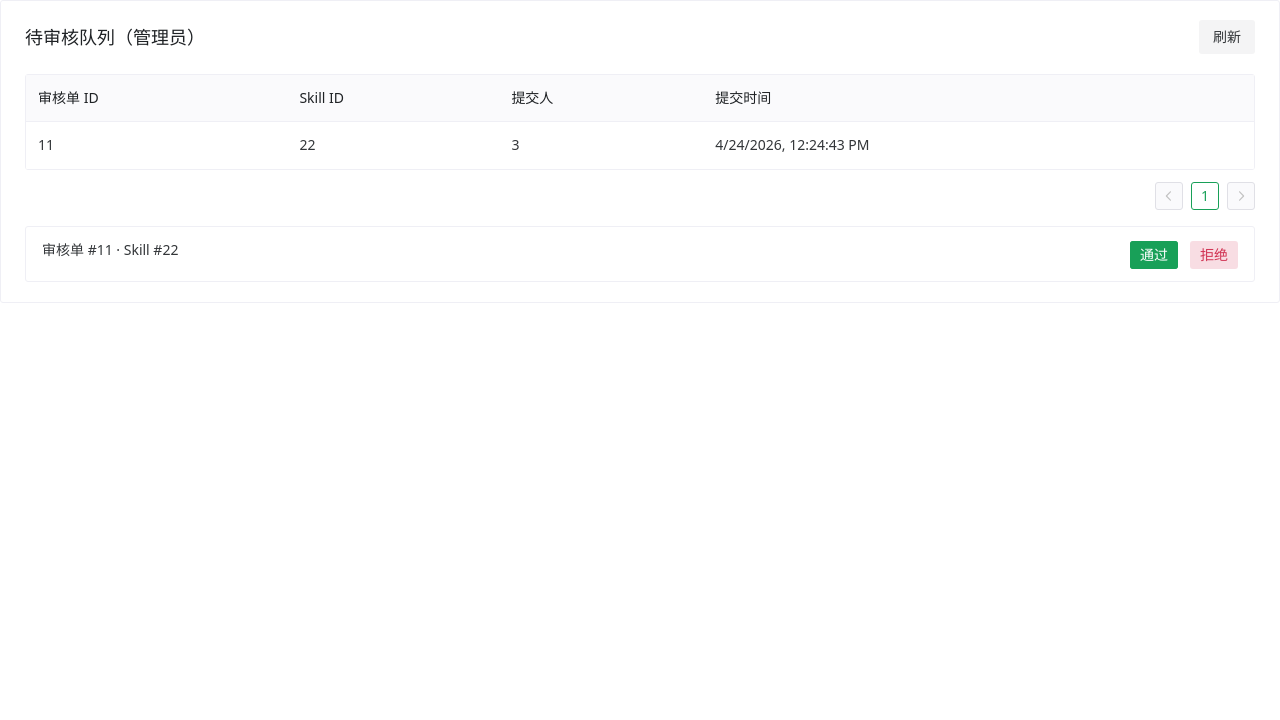
Test: WorkspaceReviewsView › shows validation feedback when reject reason is too short
Click the button with test id "11" at (1214, 255), box left=1190, top=241, right=1238, bottom=269
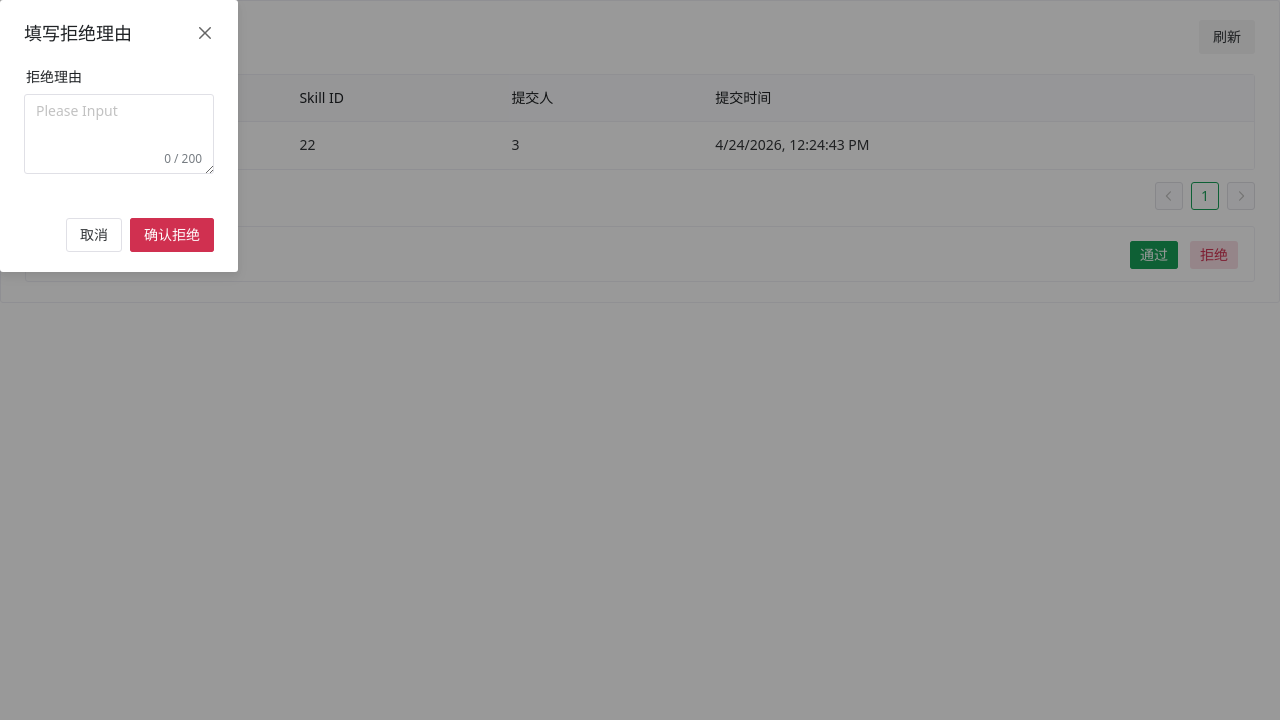
Result: the text box is shown
Type "too short" into the text box at (117, 134), box left=36, top=94, right=198, bottom=174
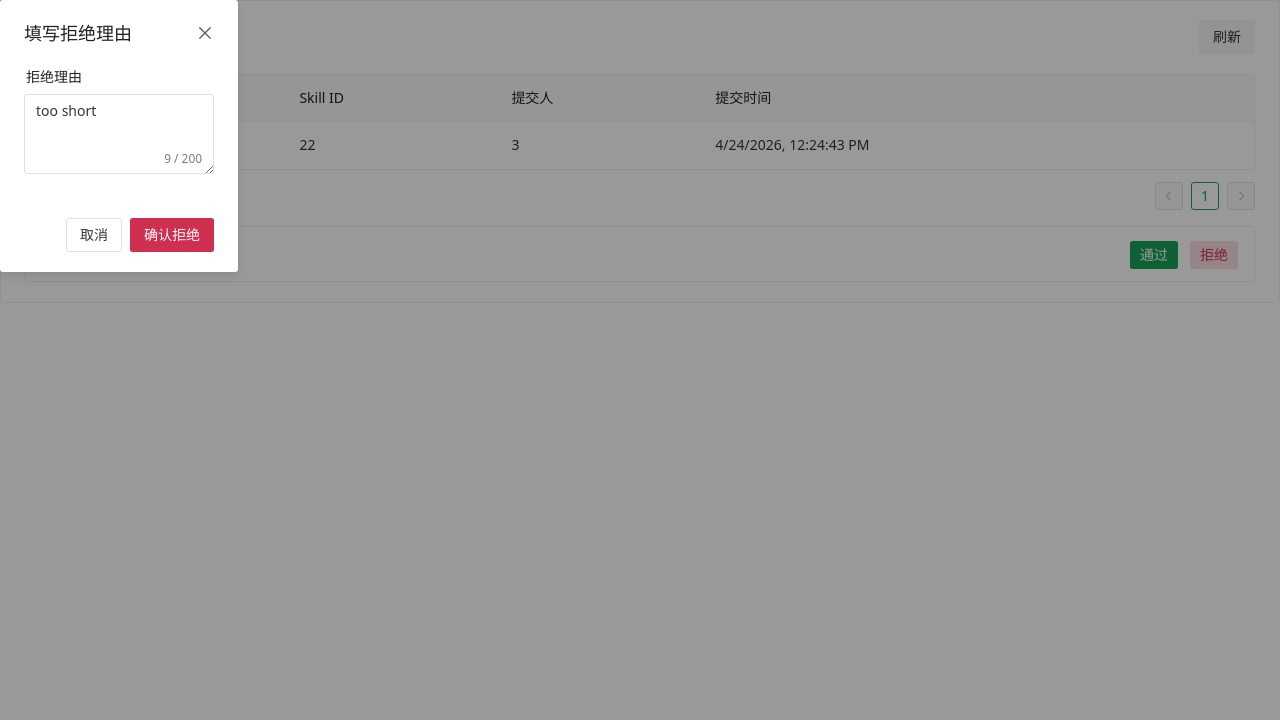
Click the button with test id "11" showing "确认拒绝" at (172, 235), box left=130, top=218, right=214, bottom=252
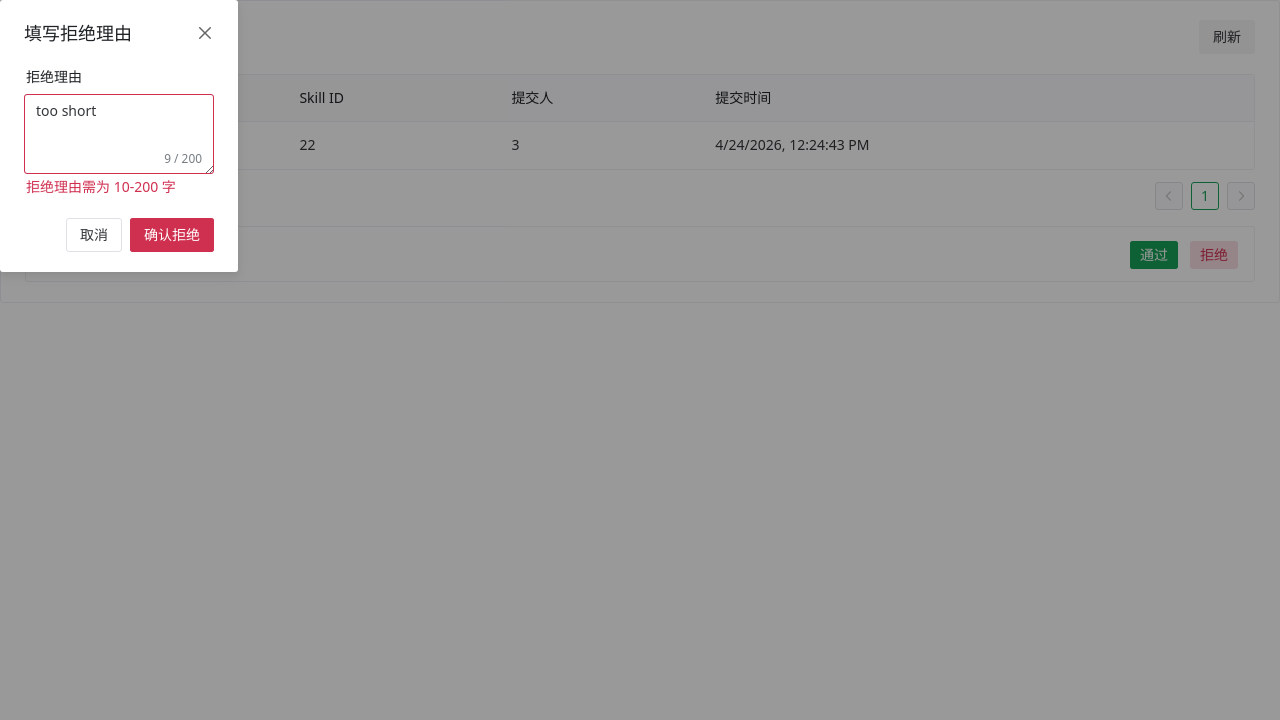
Result: the text "拒绝理由需为 10-200 字" is shown at left=26, top=177, right=176, bottom=196
